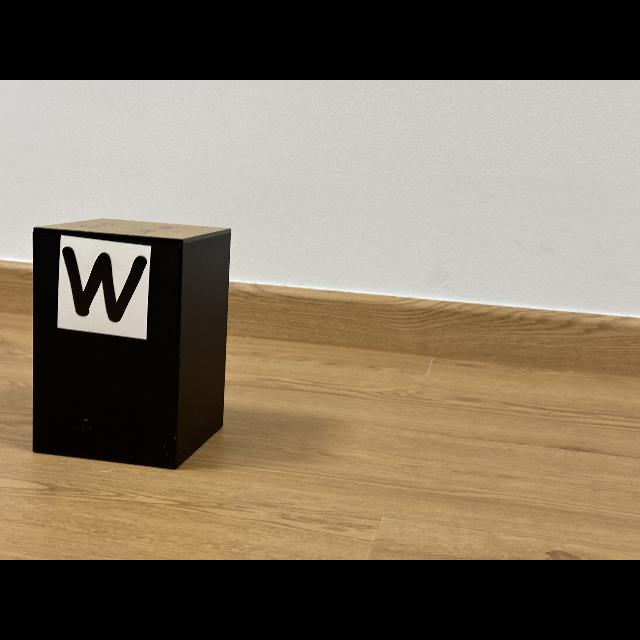W: (62, 246, 148, 322)
